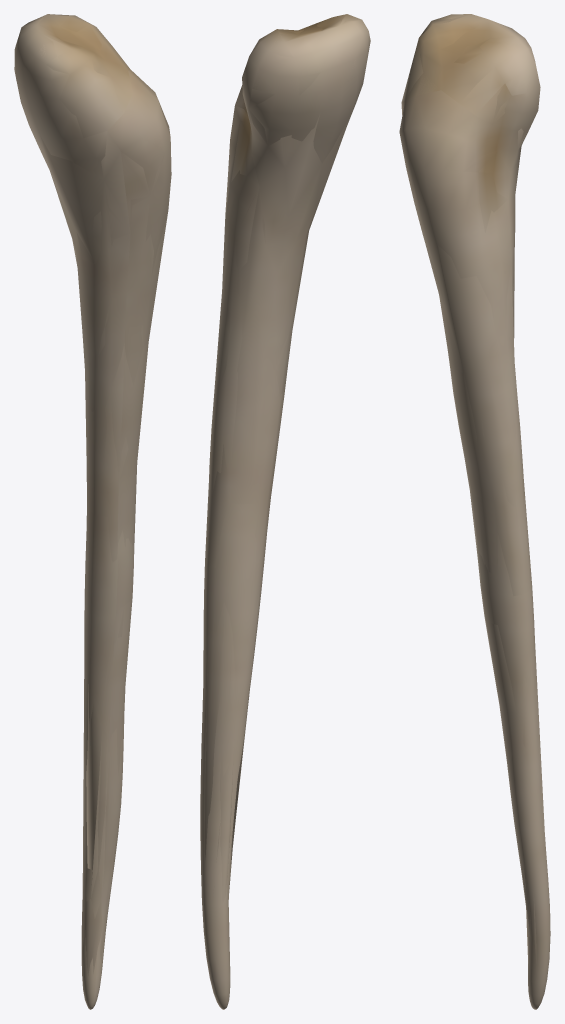
The model's file is R metacarpi quartum.fbx.
The picture shows the model from 3 angles, left to right: view 1: azimuth 30°, elevation 25°; view 2: azimuth 150°, elevation 25°; view 3: azimuth 270°, elevation 25°; orthographic projection. The views are drawn at different scales.
Visible parts, largest first — view 1: R metacarpi quartum low, R metacarpi quartum; view 2: R metacarpi quartum, R metacarpi quartum low; view 3: R metacarpi quartum, R metacarpi quartum low.
Part boxes in pixels (bbox=[...]): R metacarpi quartum low: bbox=[17, 14, 168, 976]; R metacarpi quartum: bbox=[14, 14, 171, 1009]; R metacarpi quartum: bbox=[200, 14, 370, 1009]; R metacarpi quartum low: bbox=[203, 14, 365, 1009]; R metacarpi quartum: bbox=[399, 14, 550, 1009]; R metacarpi quartum low: bbox=[400, 14, 546, 975].
Bounding box in the file's own units: 2.88 × 20.94 × 3.
1 material, 1 textured.
